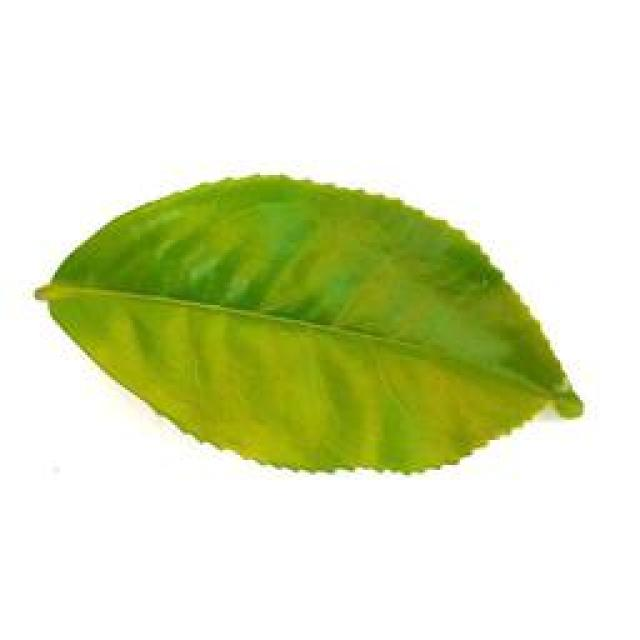Healthy: (12, 158, 607, 480)
